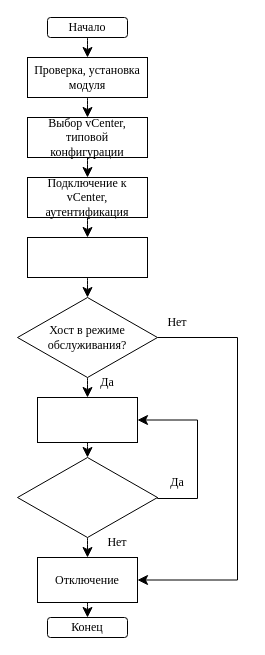
This 265x655 diagram has some shape labels left out. The shapes that lost their labels are listed below. From the top down, each one's centre as x and y in pixels, then its label:
At (x=87, y=257): "Ввод доменного имени хоста".
At (x=87, y=419): "Выбор функции".
At (x=87, y=497): "Требуются дополнительные действия?".
